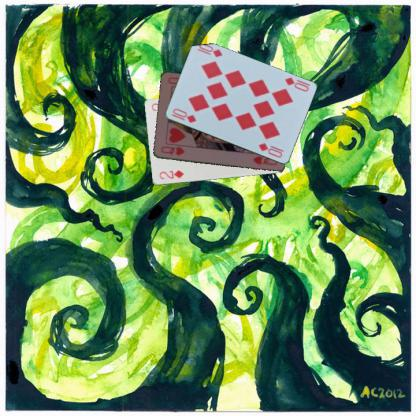10d: (282, 75, 310, 93), (170, 106, 197, 124)
2d: (156, 167, 185, 181)
Qh: (158, 144, 186, 156)
